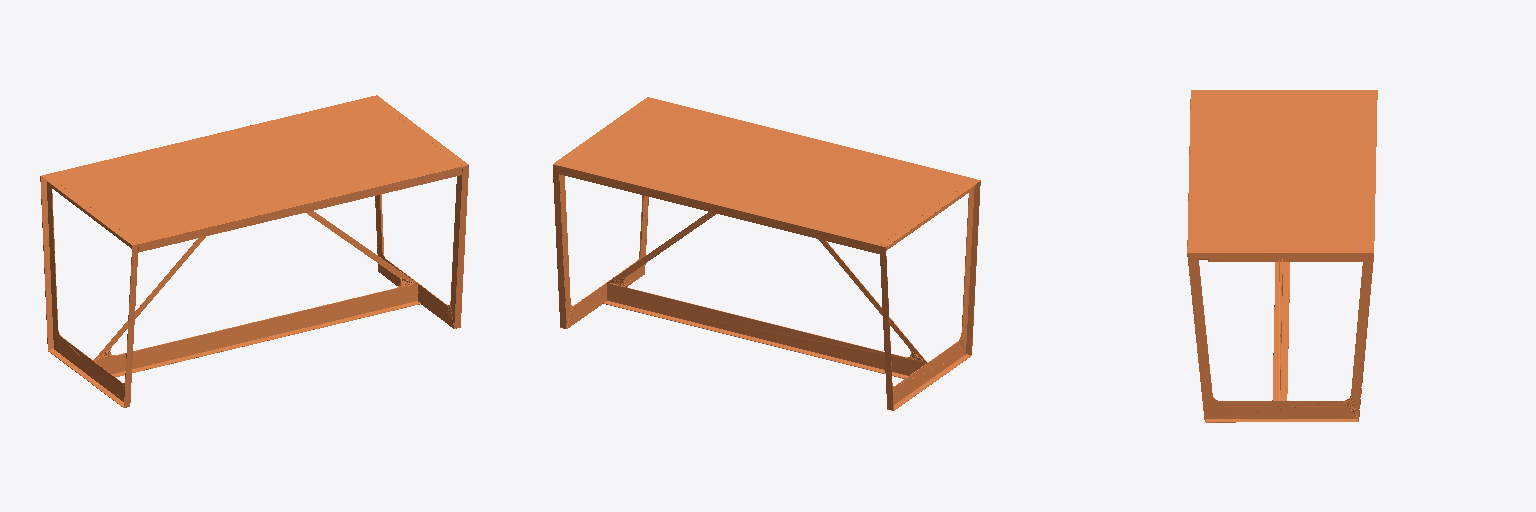
The model's file is table04.obj.
3 renders of one model, left to right at view 1: azimuth 30°, elevation 25°; view 2: azimuth 150°, elevation 25°; view 3: azimuth 270°, elevation 25°, orthographic.
Parts seen in each view (by area): view 1: Object.1, Object.3, Object.2; view 2: Object.1, Object.3, Object.2; view 3: Object.1, Object.3.
Boxes of the visible parts, x1=… form: Object.1: x1=47, y1=97, x2=461, y2=243; Object.3: x1=40, y1=95, x2=468, y2=407; Object.2: x1=61, y1=166, x2=462, y2=252; Object.1: x1=559, y1=99, x2=972, y2=245; Object.3: x1=553, y1=97, x2=980, y2=410; Object.2: x1=559, y1=153, x2=973, y2=253; Object.1: x1=1187, y1=93, x2=1377, y2=249; Object.3: x1=1187, y1=90, x2=1377, y2=422.
Size of the model in its own units: 61.73 by 29.9 by 41.43.